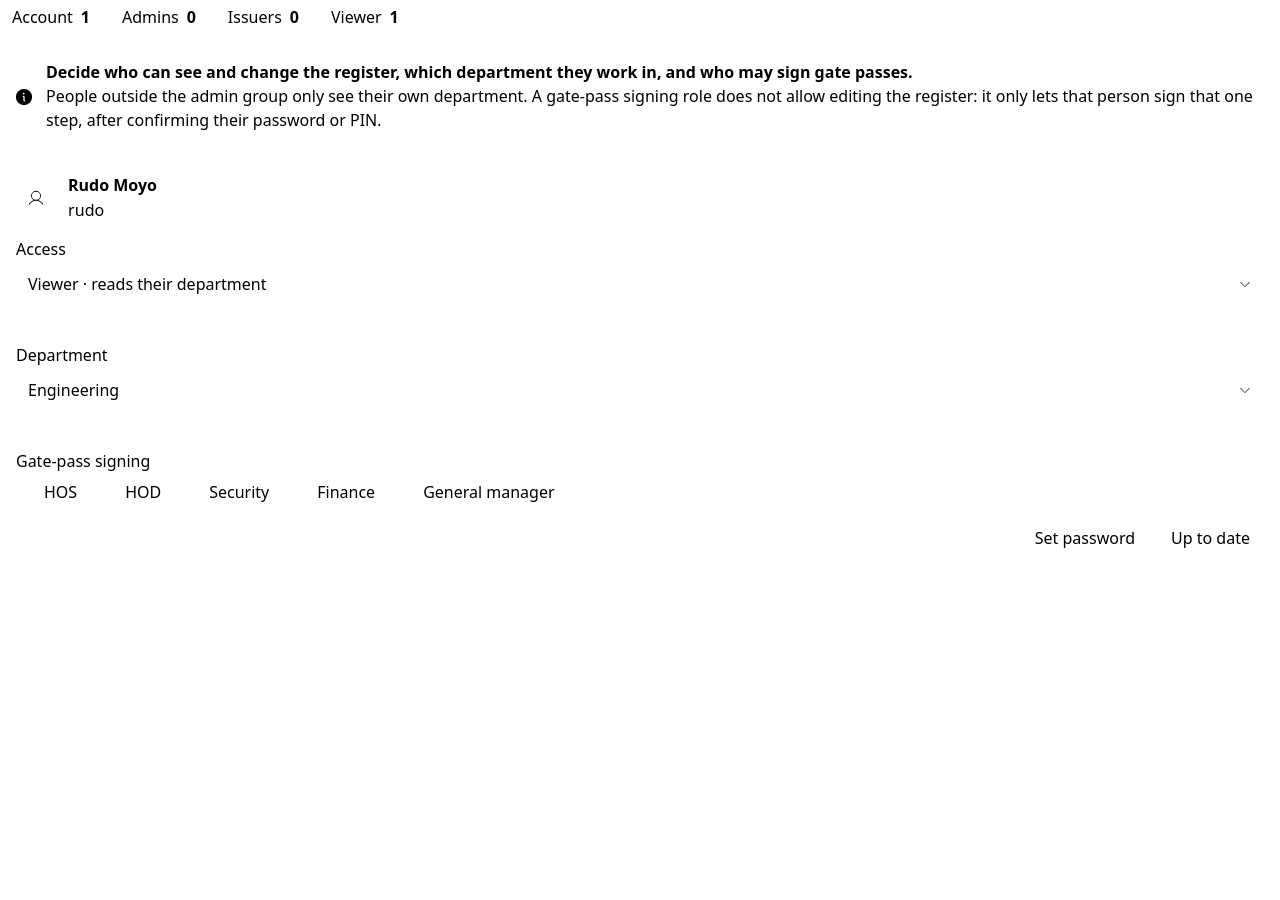
Scenario: ToolsAccountAccess password reset › opens an inline set-password form for the chosen account
Click the button "Set password": (1085, 538) x1=1021 y1=520 x2=1149 y2=556
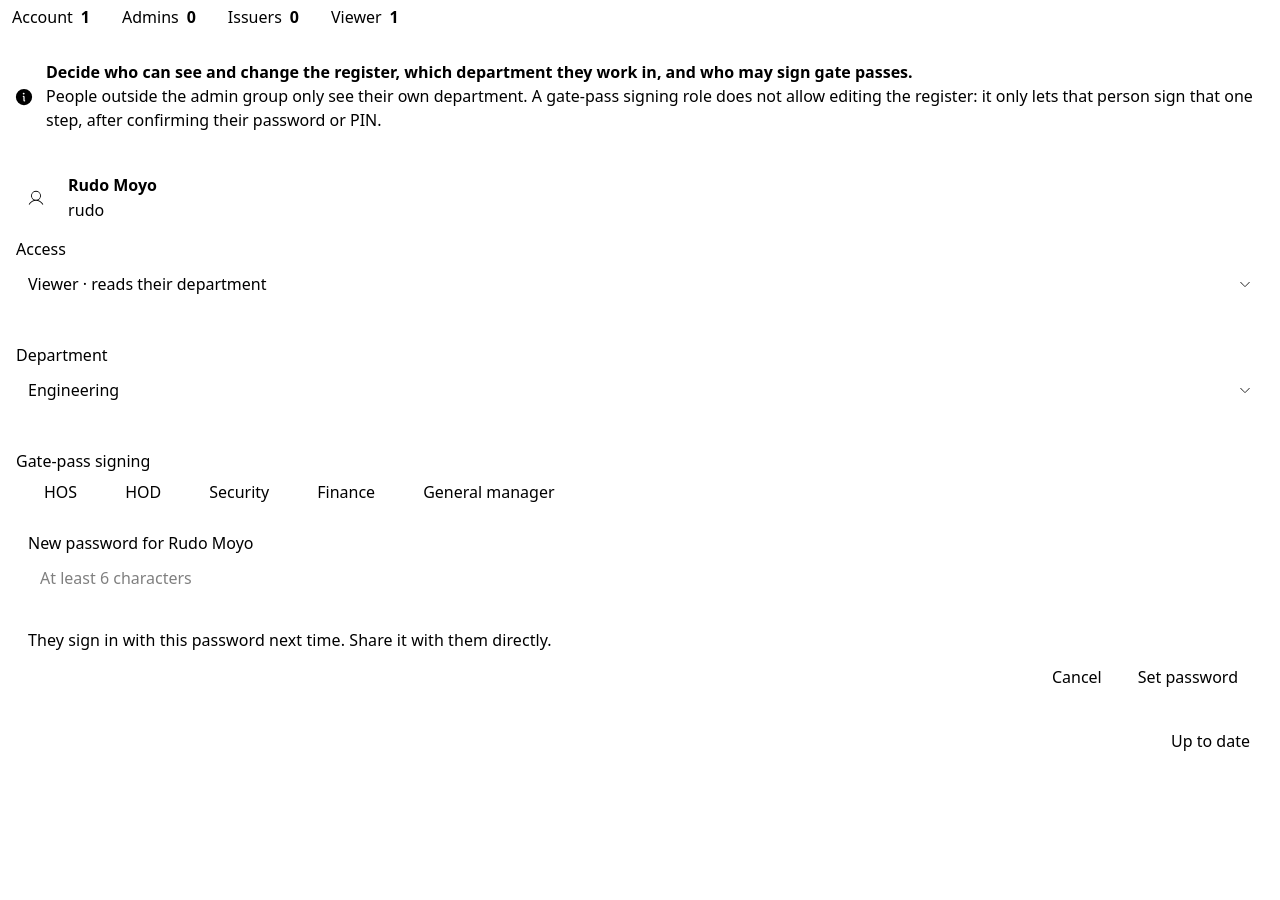
Result: the password field labelled "New password for Rudo Moyo" is shown at x1=28 y1=560 x2=1252 y2=596
